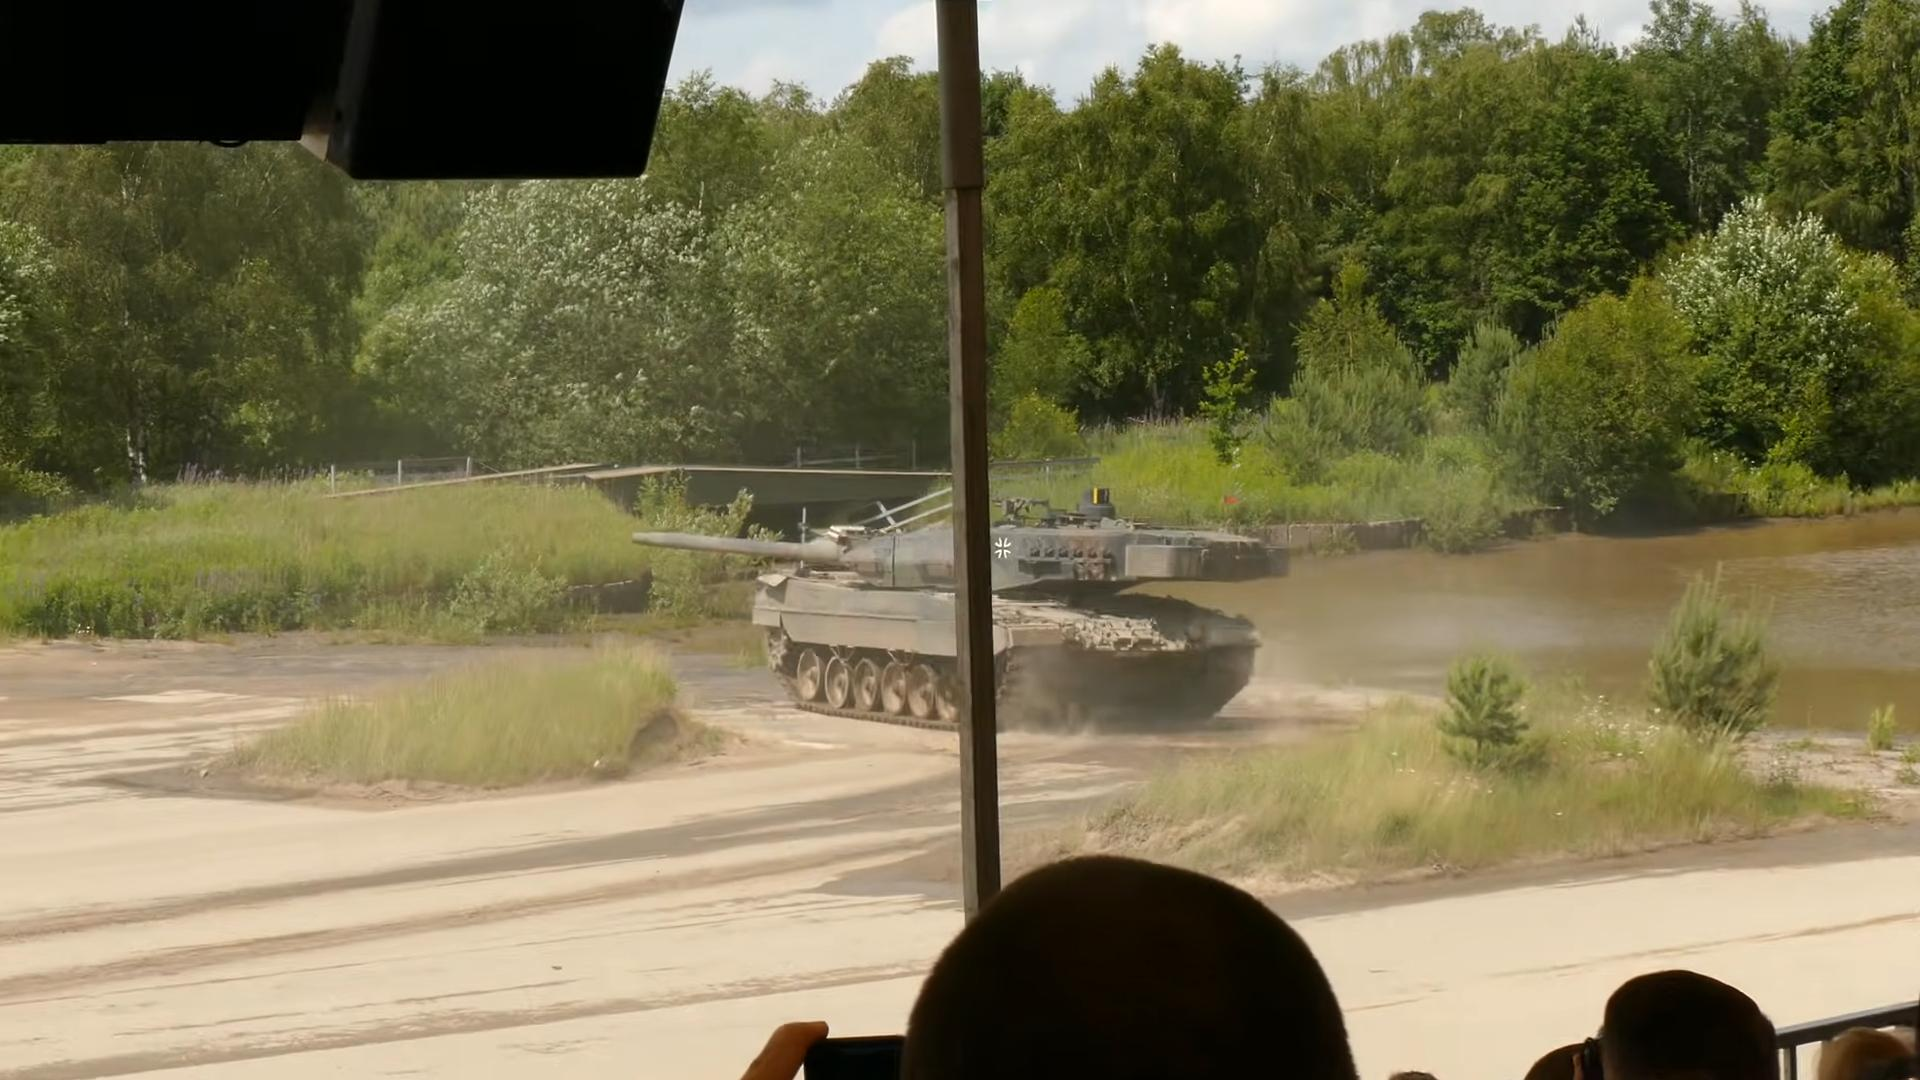tank: (632, 488, 1288, 736)
